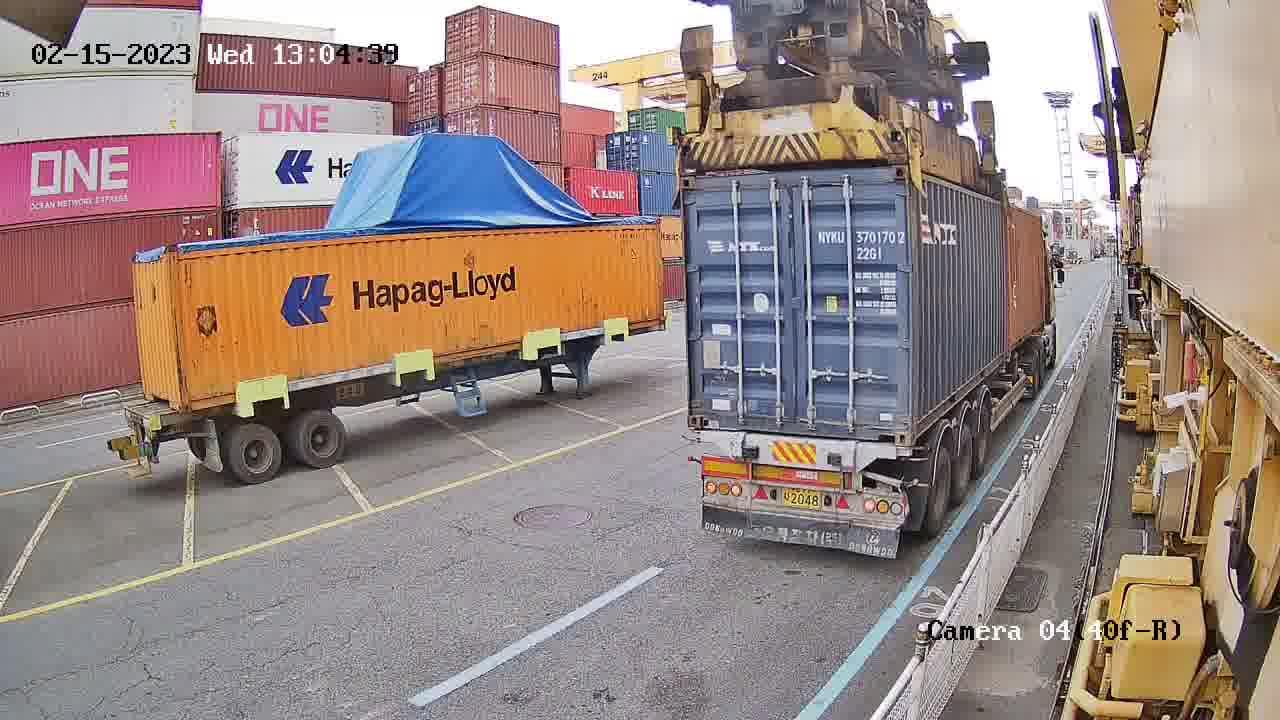Chassis: (687, 431, 897, 472)
Cone: (892, 444, 914, 464), (680, 431, 699, 447)
Hole_L: (688, 388, 726, 431)
Hole_R: (867, 405, 909, 445)
Tire: (924, 443, 953, 530), (956, 423, 975, 493), (975, 408, 993, 463)
